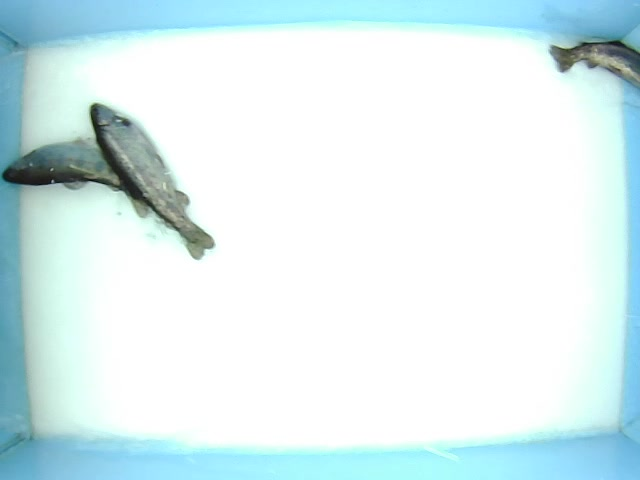fish: (88, 99, 217, 261), (1, 135, 167, 221)
